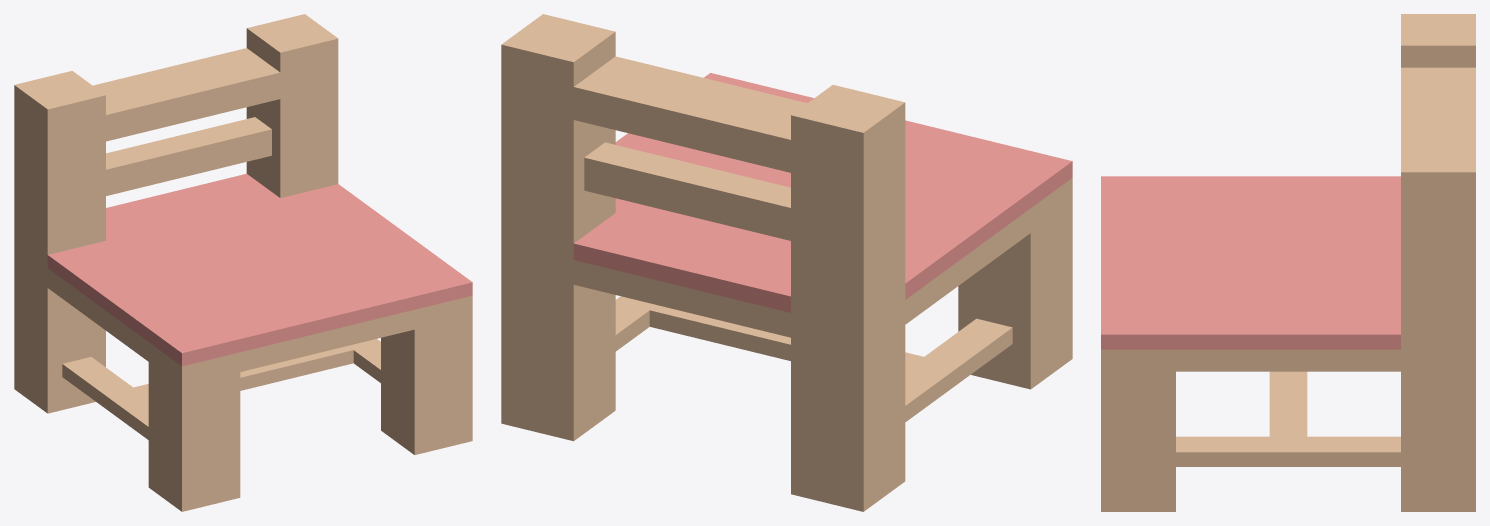
The model's file is kn-chair-cushion.glb.
3 renders of one model, left to right at view 1: azimuth 30°, elevation 25°; view 2: azimuth 150°, elevation 25°; view 3: azimuth 270°, elevation 25°, orthographic. The views are drawn at different scales.
Parts seen in each view (by area): view 1: chairCushion(Clone); view 2: chairCushion(Clone); view 3: chairCushion(Clone).
Part boxes in pixels (x1,y1,x2,y2): chairCushion(Clone): [14, 14, 472, 511]; chairCushion(Clone): [501, 14, 1072, 511]; chairCushion(Clone): [1101, 14, 1475, 511].
Size of the model in its own units: 1 by 1 by 1.
